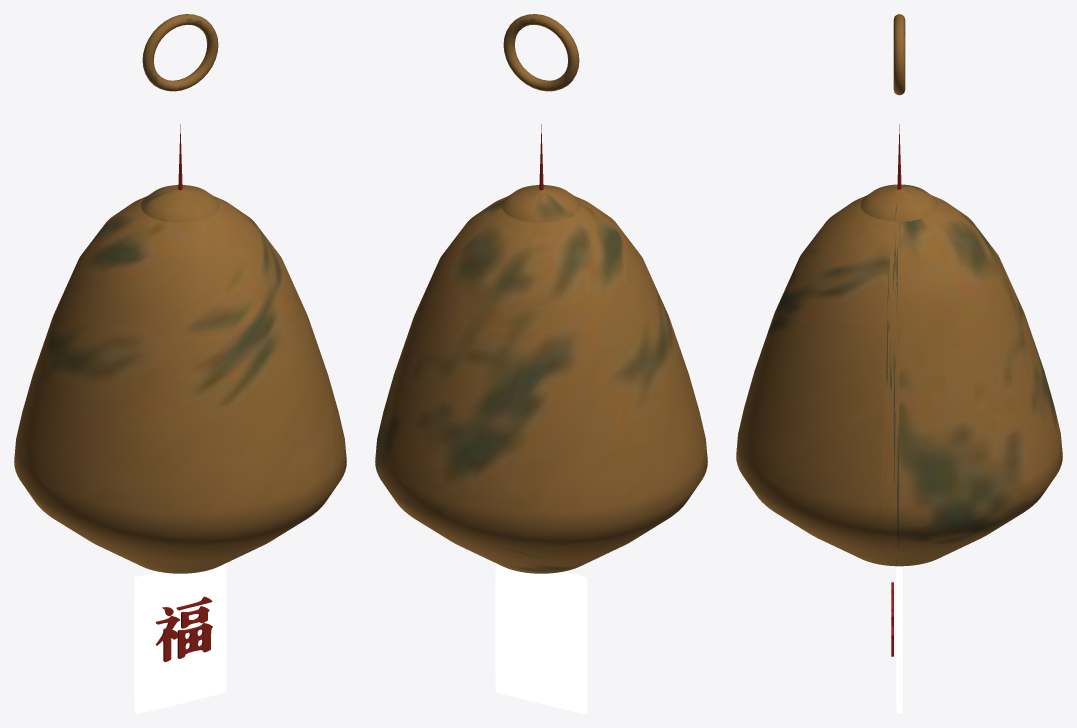
Rendered from PROP_NightBlue_Chime_Brass.glb.
The picture shows the model from 3 angles, left to right: view 1: azimuth 30°, elevation 25°; view 2: azimuth 150°, elevation 25°; view 3: azimuth 270°, elevation 25°; orthographic projection.
Parts seen in each view (by area): view 1: PROP_NightBlue_Chime_Brass; view 2: PROP_NightBlue_Chime_Brass; view 3: PROP_NightBlue_Chime_Brass.
Boxes of the visible parts, x1,y1,x2,y2 form: PROP_NightBlue_Chime_Brass: (14, 14, 346, 713); PROP_NightBlue_Chime_Brass: (375, 14, 707, 713); PROP_NightBlue_Chime_Brass: (736, 14, 1062, 713).
Bounding box in the file's own units: 0.2 × 0.456 × 0.2.
Materials: 3 (3 with a texture image).
